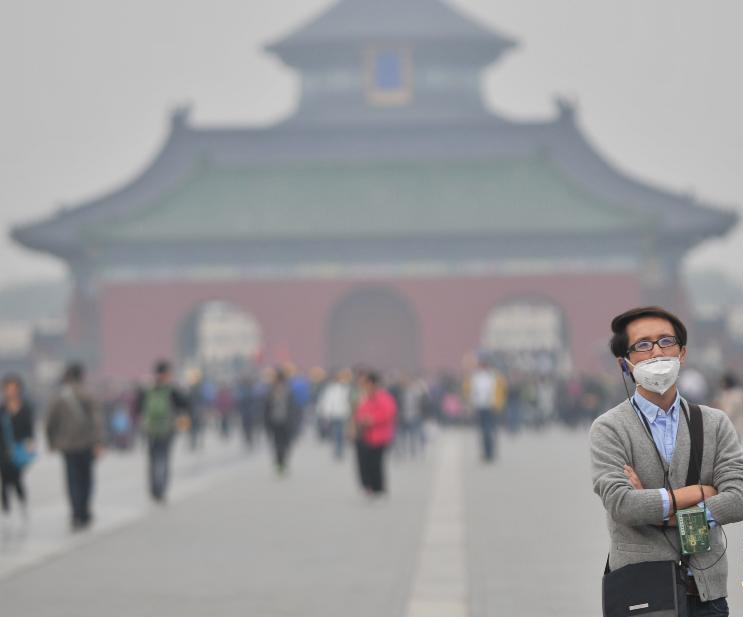person: (587, 304, 743, 617), (44, 359, 103, 536), (131, 356, 188, 503), (1, 375, 41, 534), (356, 369, 397, 496)
